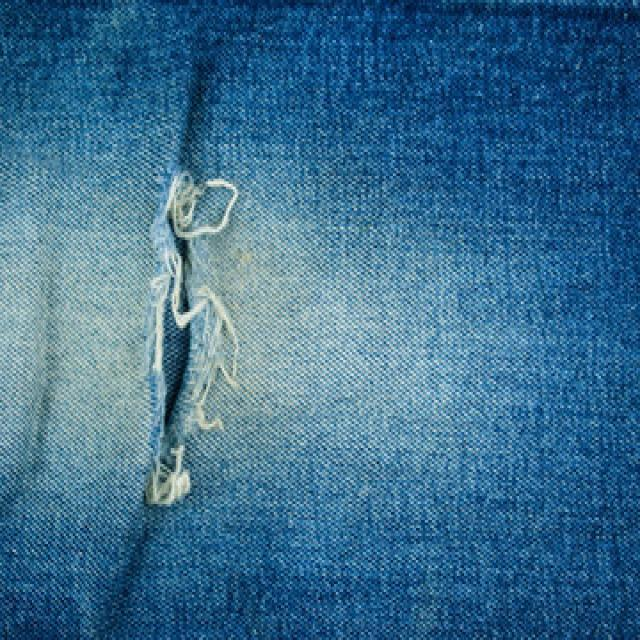Hole: (145, 172, 238, 506)
